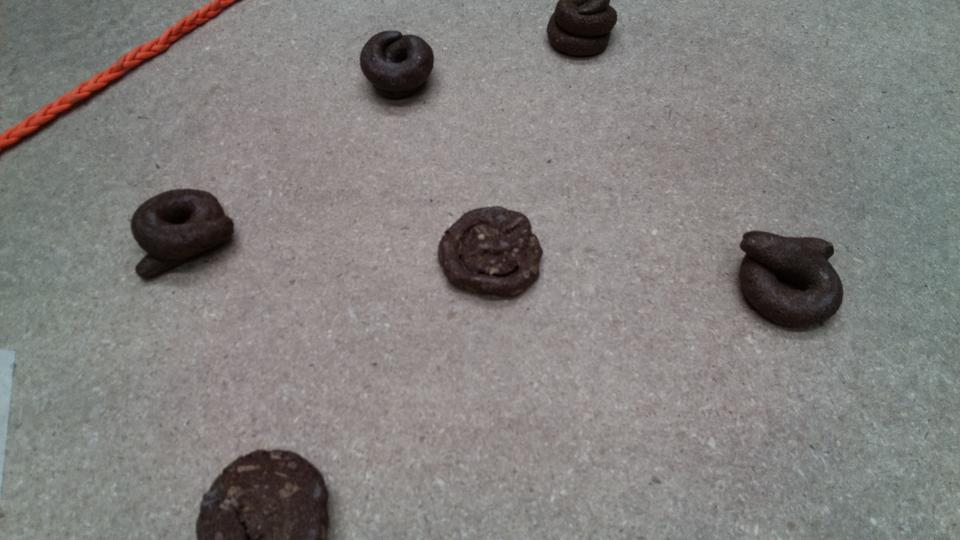poop: (188, 439, 332, 540), (733, 226, 854, 335), (433, 202, 552, 308), (130, 187, 242, 287), (353, 26, 440, 108), (545, 1, 623, 65)
rope: (71, 1, 247, 88), (3, 77, 94, 170)
